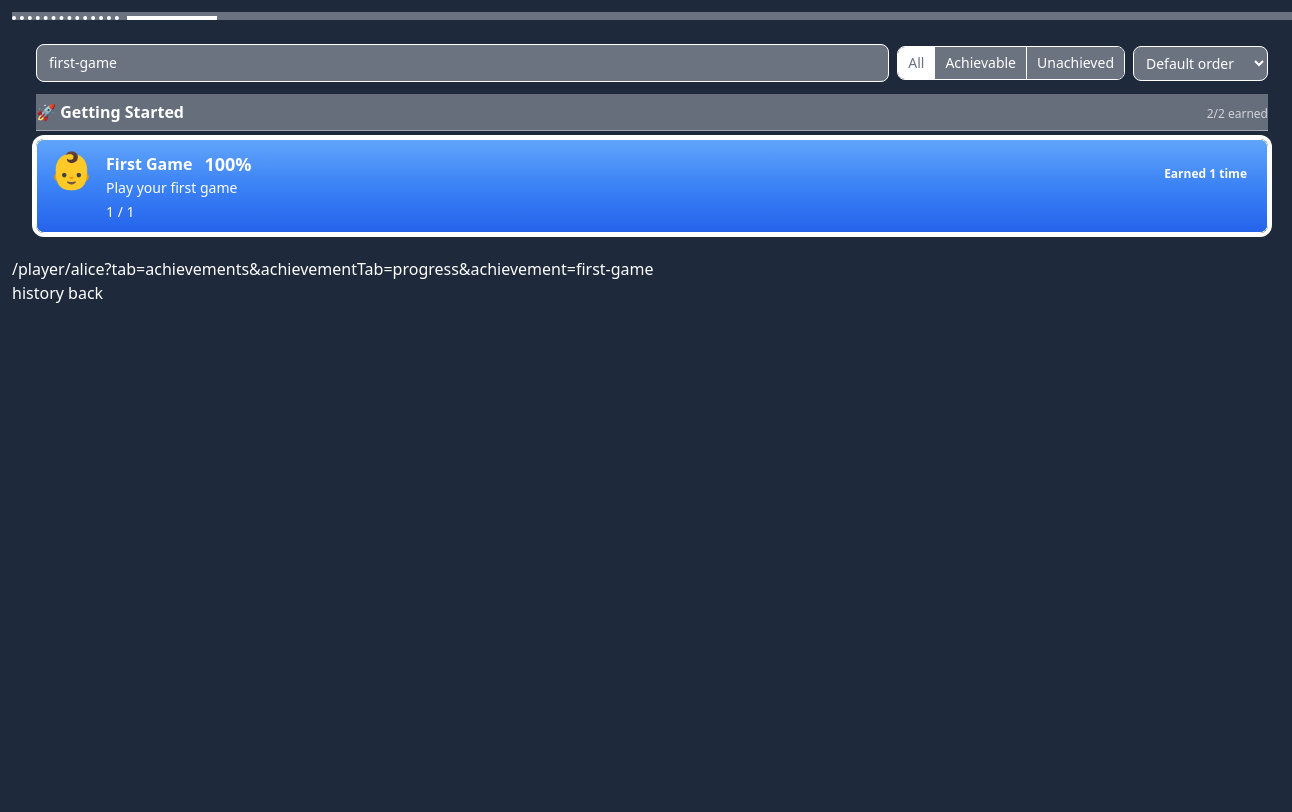
a player's achievements from a link › shows the whole list again when the search is cleared
Clear the search field named "Search achievements by name or description" at x=463, y=63, box [36,44,889,82]
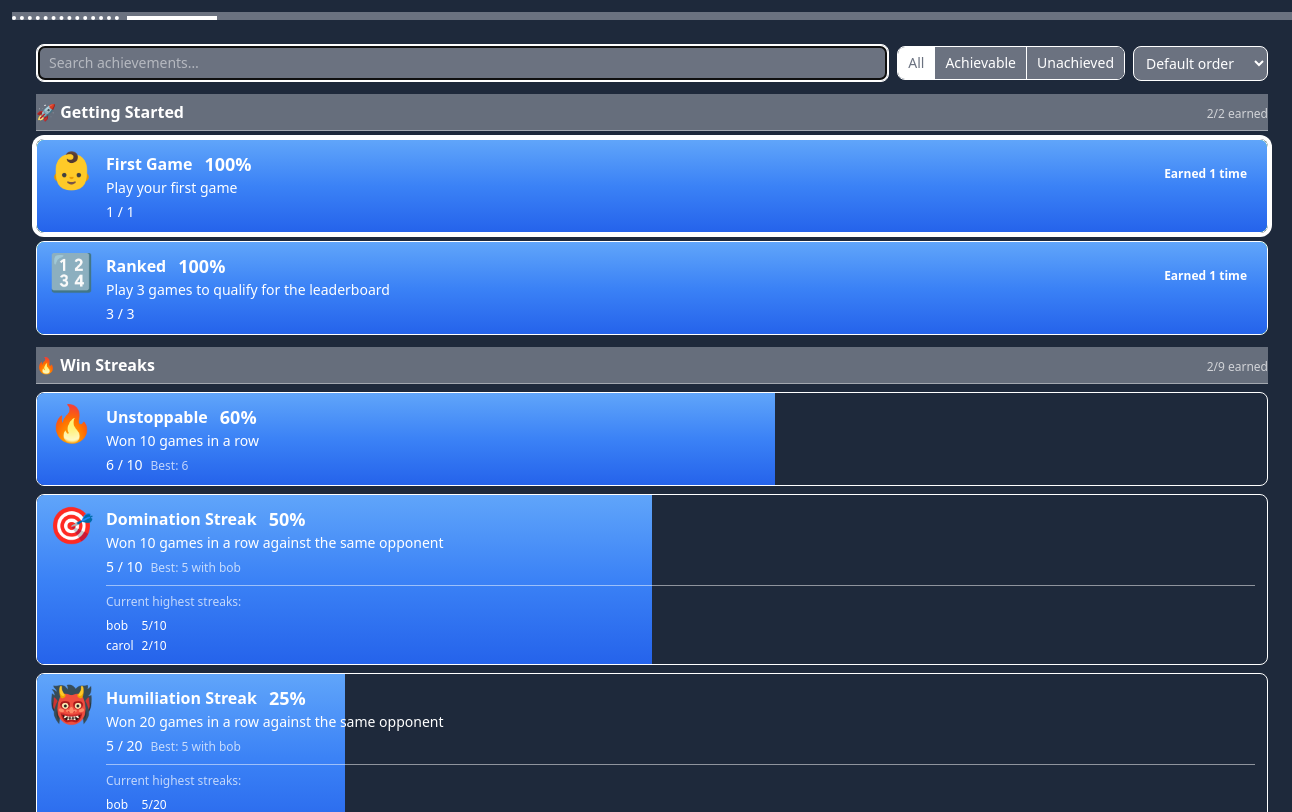
expect the link "First Game" is shown: met, box [106,153,192,175]
expect the link "Humiliation Streak" is shown: met, box [106,687,257,709]
